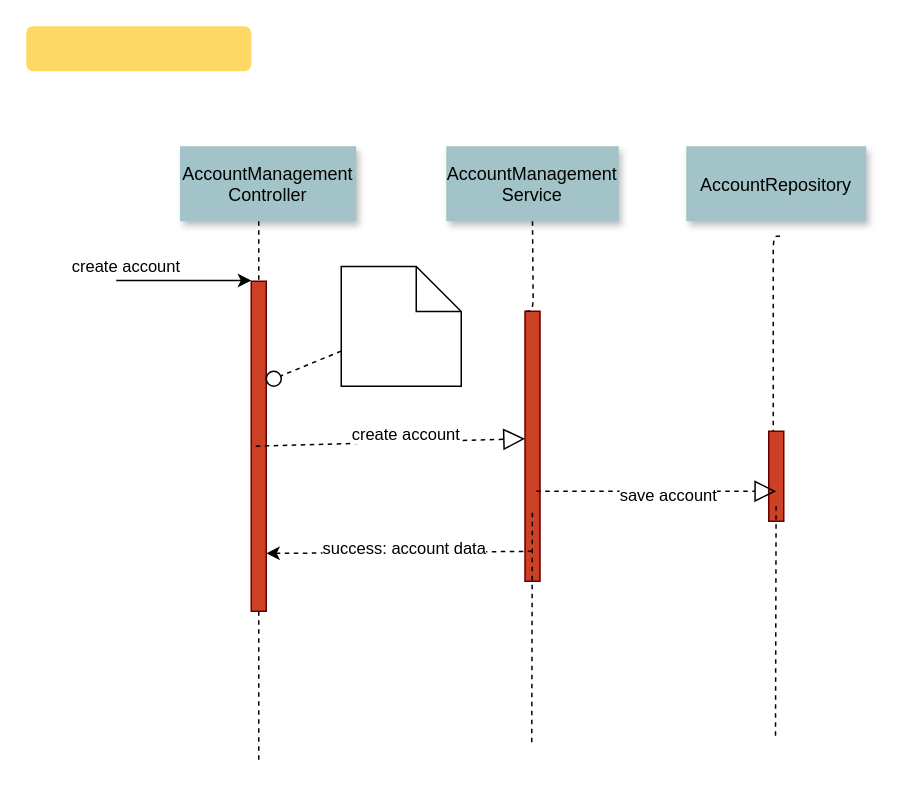
Image size: 900x789. Some labels were removed from this diagram. Here are the shapes that lost their labels. From the top down, the centre of each, then its label:
At (x=138, y=48): "Account Management".
At (x=400, y=325): "- account data validation - password check".
